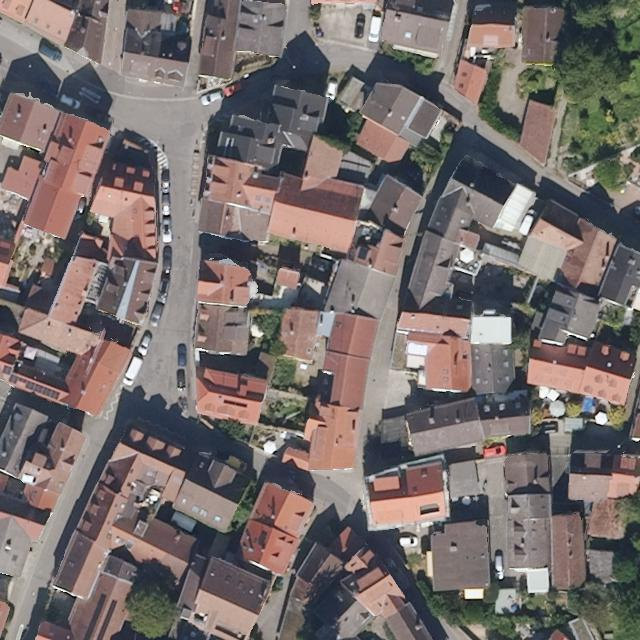PV: (26, 379, 60, 401), (1, 364, 12, 375), (7, 375, 20, 384)
